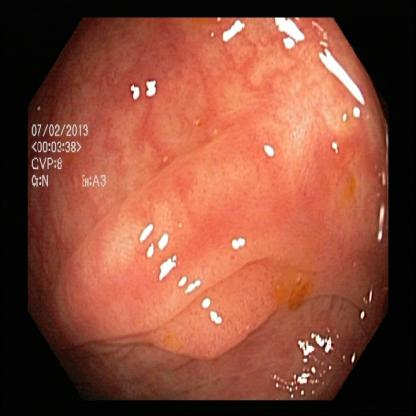Polyps: (56, 214, 272, 362)
